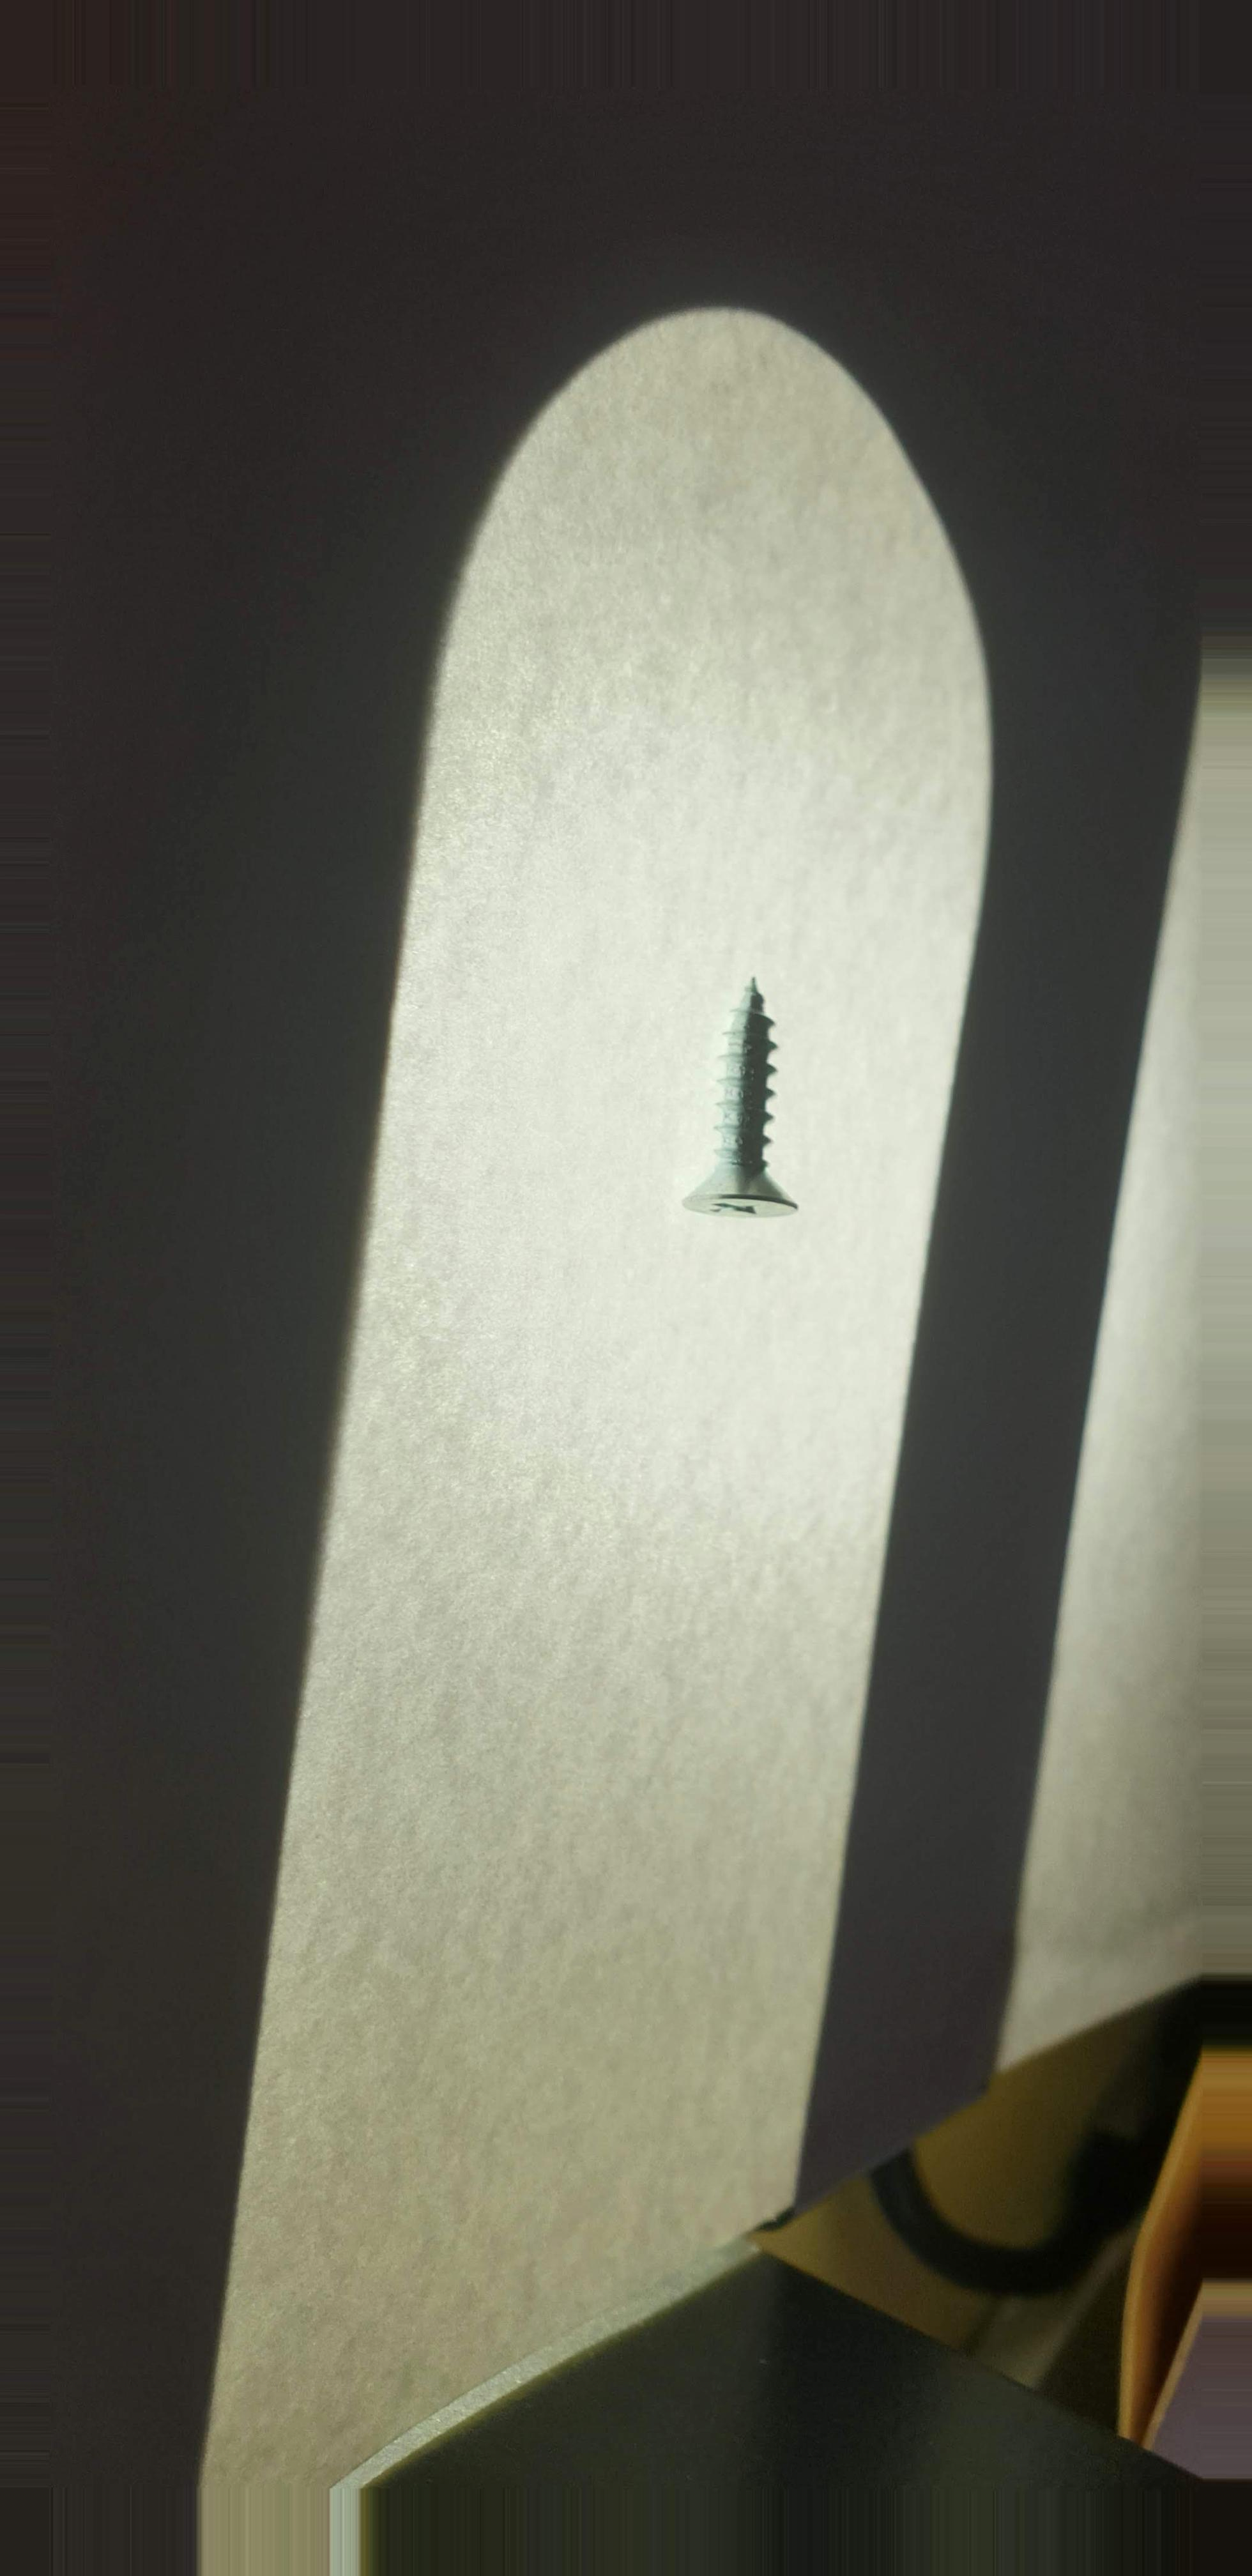S003: (665, 948, 822, 1265)
